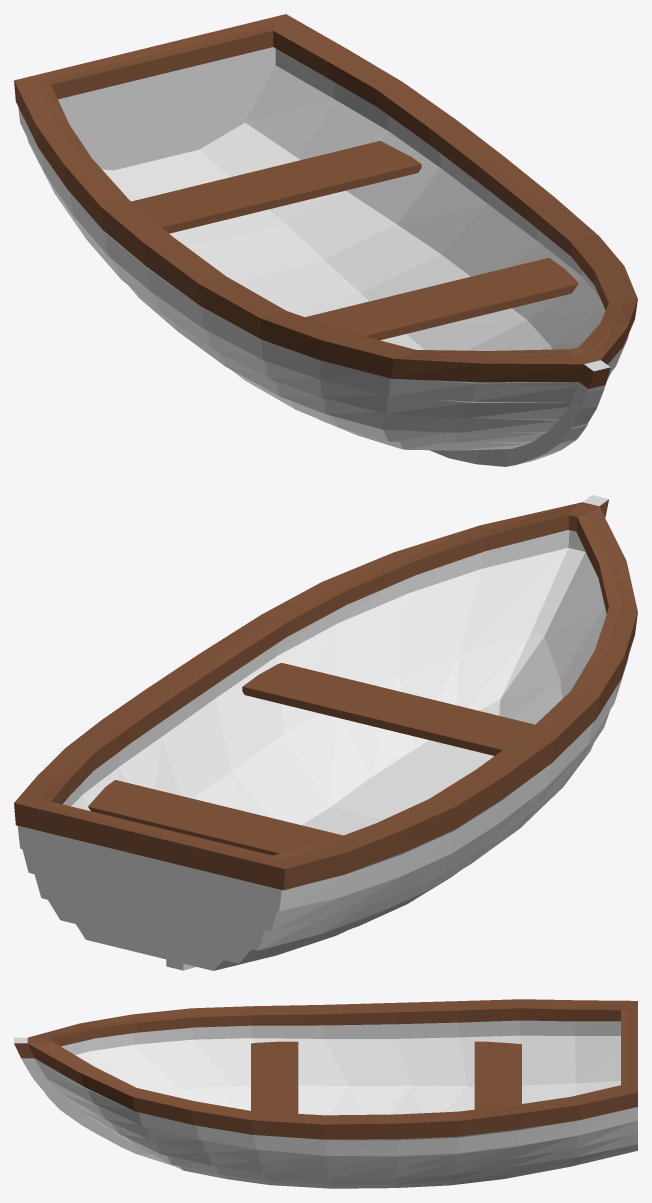
Rendered from boat.obj.
3 views of the same model, one above another, from view 1: azimuth 30°, elevation 25°; view 2: azimuth 150°, elevation 25°; view 3: azimuth 270°, elevation 25° (orthographic). The views are drawn at different scales.
Visible parts, largest first — view 1: meshBoat; view 2: meshBoat; view 3: meshBoat.
Part boxes in pixels (x1,y1,x2,y2): meshBoat: [14, 14, 637, 466]; meshBoat: [14, 495, 637, 970]; meshBoat: [14, 999, 637, 1188].
Bounding box in the file's own units: 32.09 × 17.67 × 70.03.
Materials: 1 (1 with a texture image).
